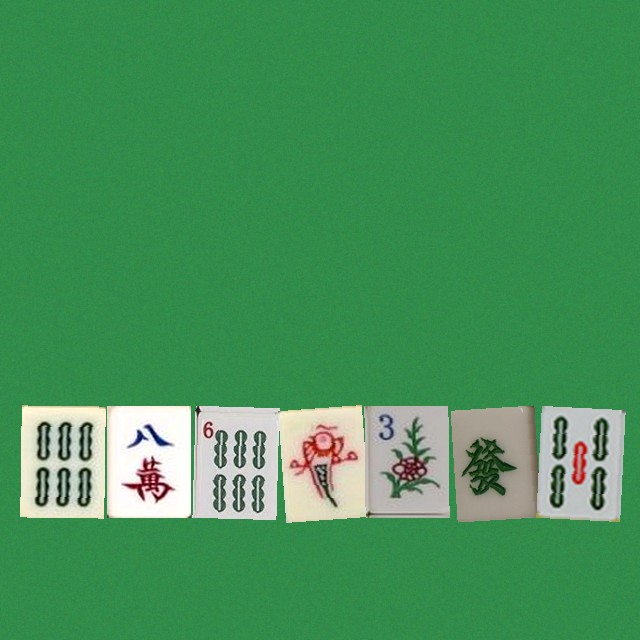tile: (20, 405, 104, 517), (106, 405, 190, 517), (192, 405, 276, 517), (278, 405, 362, 517), (364, 405, 448, 517), (450, 405, 534, 517), (536, 405, 620, 517)
